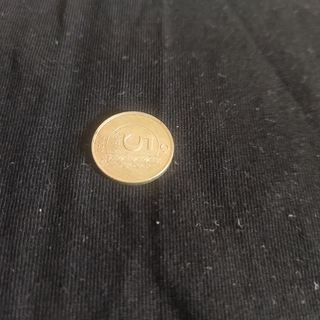5KURUS: (88, 108, 176, 187)
